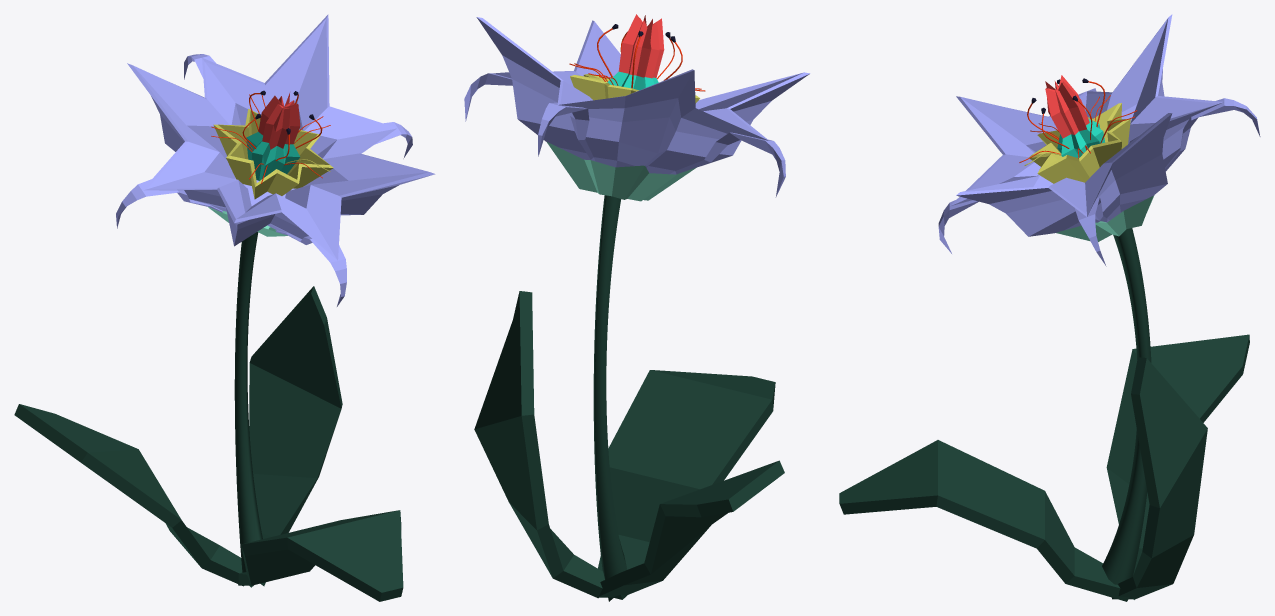
The model's file is st1_flower1.fbx.
3 renders of one model, left to right at view 1: azimuth 30°, elevation 25°; view 2: azimuth 150°, elevation 25°; view 3: azimuth 270°, elevation 25°, orthographic. The views are drawn at different scales.
Parts seen in each view (by area): view 1: 1_flower_etc_001; view 2: 1_flower_etc_001; view 3: 1_flower_etc_001.
Part boxes in pixels (x1,y1,x2,y2): 1_flower_etc_001: (14,14,435,601); 1_flower_etc_001: (464,14,810,601); 1_flower_etc_001: (839,14,1260,601).
Size of the model in its own units: 771 by 1217 by 864.
